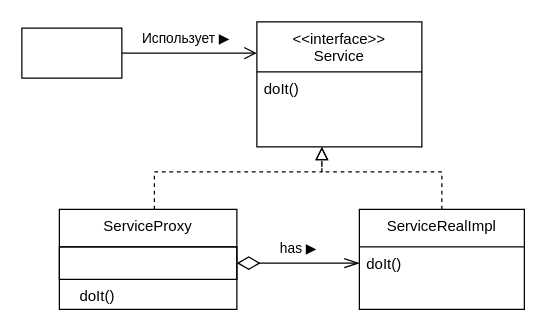
Some shapes in this 546 by 331 pixel diagram are drawn without their labels. The shapes that lost their labels are listed below. From the top down, each one's centre as x and y in pixels, then its label:
At (x=71, y=52): "Client".
At (x=147, y=262): "- realService: Service".
